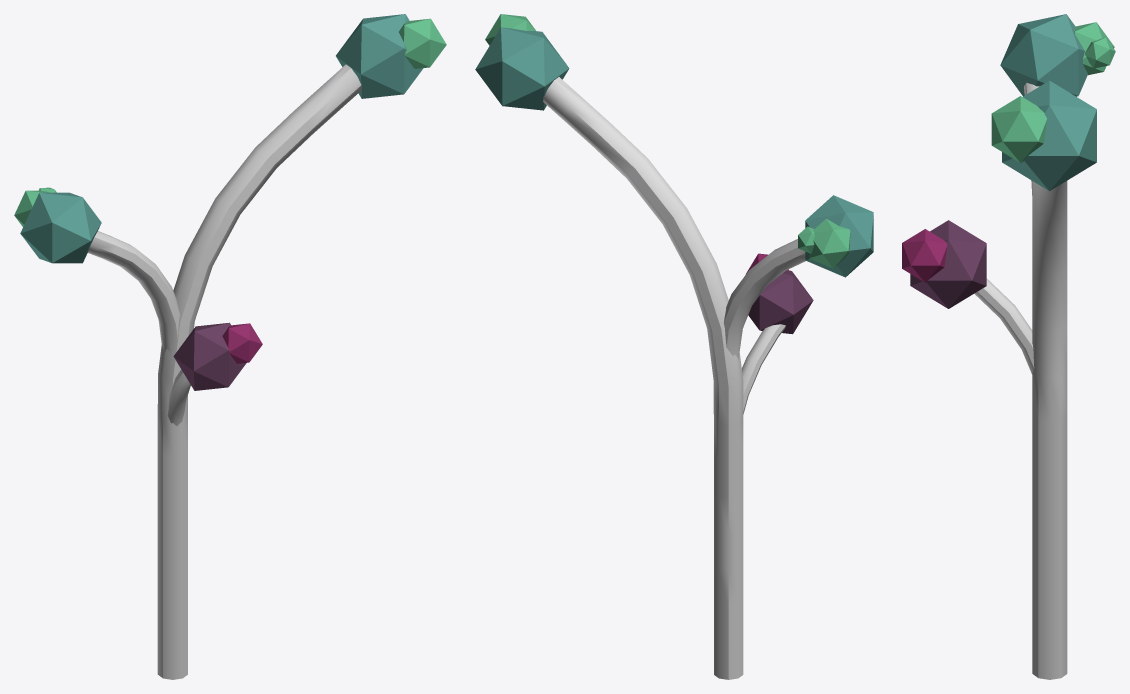
The model's file is Flower_3_sapling.obj.
The picture shows the model from 3 angles, left to right: view 1: azimuth 30°, elevation 25°; view 2: azimuth 150°, elevation 25°; view 3: azimuth 270°, elevation 25°; orthographic projection. The views are drawn at different scales.
Visible parts, largest first — view 1: Branch1, Platonic_1, Platonic, Branch2, Platonic_2, Platonic.8, Platonic.8_1, Branch3; view 2: Branch1, Platonic_1, Branch2, Platonic, Platonic_2, Platonic.6, Branch3, Platonic.8; view 3: Branch1, Platonic_1, Platonic, Platonic_2, Platonic.8, Platonic.8_1, Branch3, Platonic.6, Platonic.4.
Part boxes in pixels (box(x1,y1,x2,y2)): Branch1: box(157, 64, 361, 679); Platonic_1: box(336, 14, 423, 98); Platonic: box(20, 192, 101, 263); Branch2: box(88, 231, 179, 355); Platonic_2: box(173, 322, 246, 390); Platonic.8: box(399, 18, 446, 68); Platonic.8_1: box(222, 323, 262, 363); Branch3: box(167, 369, 190, 425); Branch1: box(543, 77, 743, 679); Platonic_1: box(475, 27, 569, 110); Branch2: box(723, 239, 805, 359); Platonic: box(805, 195, 873, 277); Platonic_2: box(748, 270, 813, 334); Platonic.6: box(809, 219, 850, 268); Branch3: box(742, 324, 785, 414); Platonic.8: box(485, 14, 535, 45); Branch1: box(1032, 181, 1067, 679); Platonic_1: box(1002, 80, 1096, 191); Platonic: box(1000, 14, 1087, 96); Platonic_2: box(910, 220, 986, 308); Platonic.8: box(991, 96, 1047, 162); Platonic.8_1: box(902, 229, 947, 282); Branch3: box(974, 278, 1034, 374); Platonic.6: box(1074, 22, 1114, 75); Platonic.4: box(1085, 37, 1115, 68).
Bounding box in the file's own units: 183 × 263 × 72.6.
